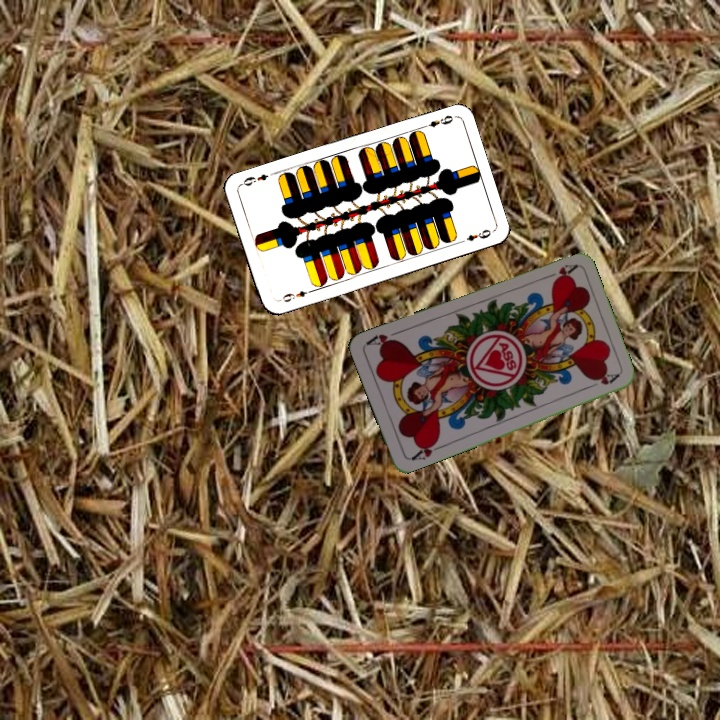E9: (417, 111, 457, 131), (275, 286, 315, 305)
HA: (407, 436, 445, 463), (539, 260, 579, 284)
